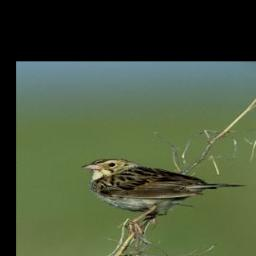Sparrow: (73, 154, 249, 238)
